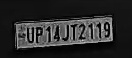1: (86, 21, 97, 41), (45, 27, 55, 43), (95, 21, 103, 40)
2: (76, 21, 89, 44)
4: (52, 23, 63, 42)
9: (103, 21, 112, 41)
J: (61, 25, 72, 42)
P: (34, 25, 46, 45)
T: (69, 22, 78, 42)
U: (25, 25, 36, 46)
